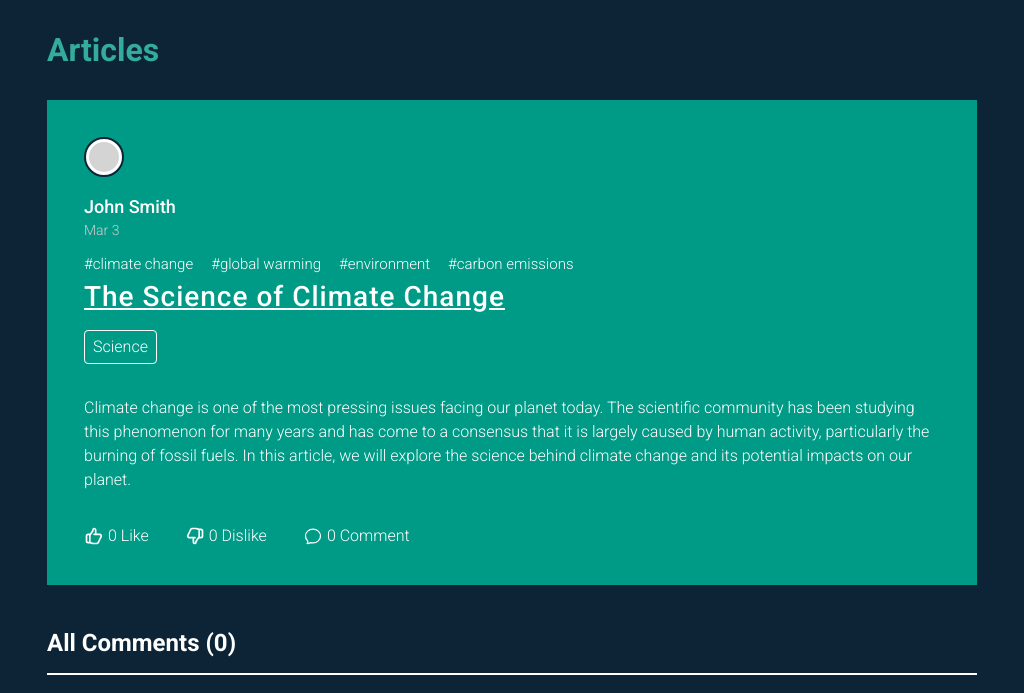
article › should toggle like and dislike count
Click the button "0 Like" at [116, 536], box [84,524,149,548]
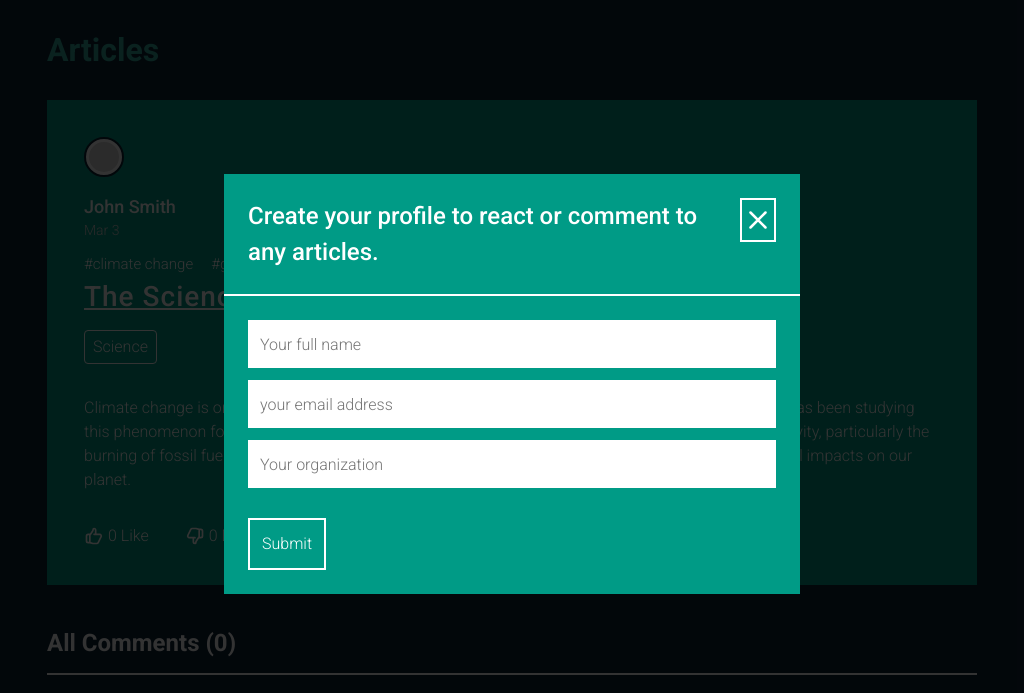
Type "John Doe" into the field with placeholder "Your full name" at [512, 344], box [248,320,776,368]
Type "johndoe@gmail.com" into the field with placeholder "your email address" at [512, 404], box [248,380,776,428]
Type "ICS" into the field with placeholder "Your organization" at [512, 464], box [248,440,776,488]
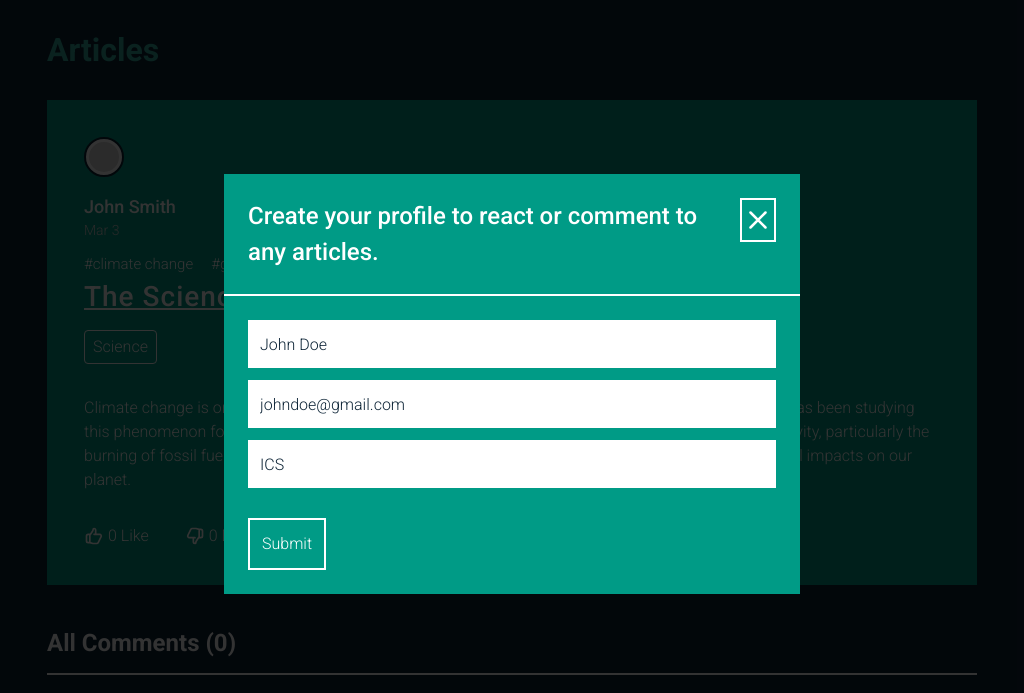
Submit the form with test id "user-form", box [248,320,776,570]
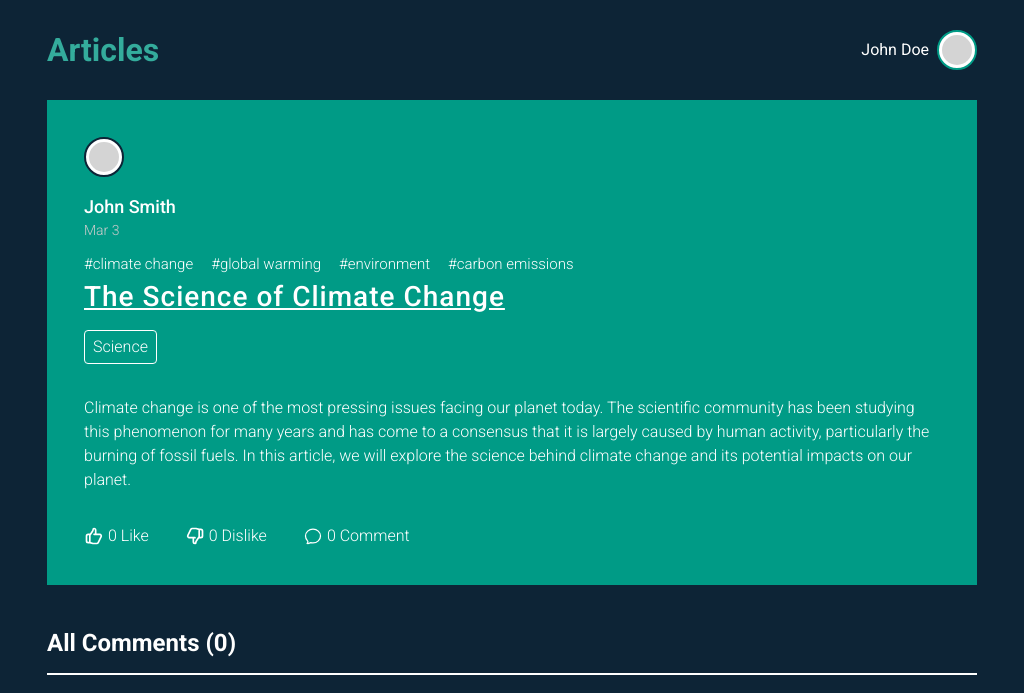
Expected: the form with test id "user-form" is gone
Click the button "0 Dislike" at [226, 536], box [185,524,267,548]
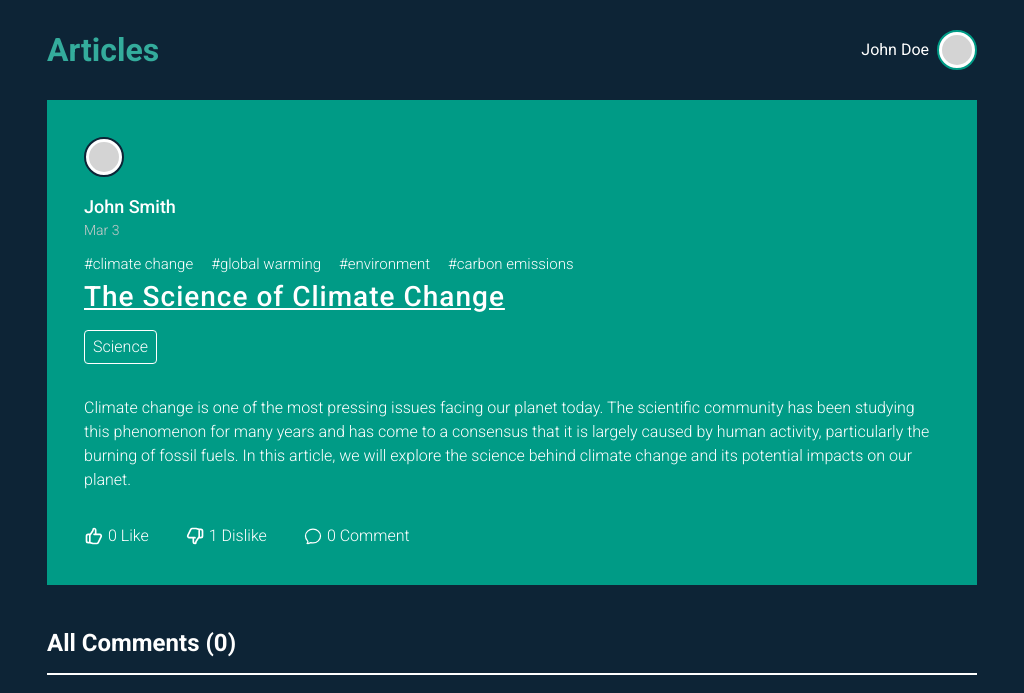
Expected: the text "0 Dislike" reads "1 Dislike", [209,524,267,548]
Click the button "0 Like" at [116, 536], box [84,524,149,548]
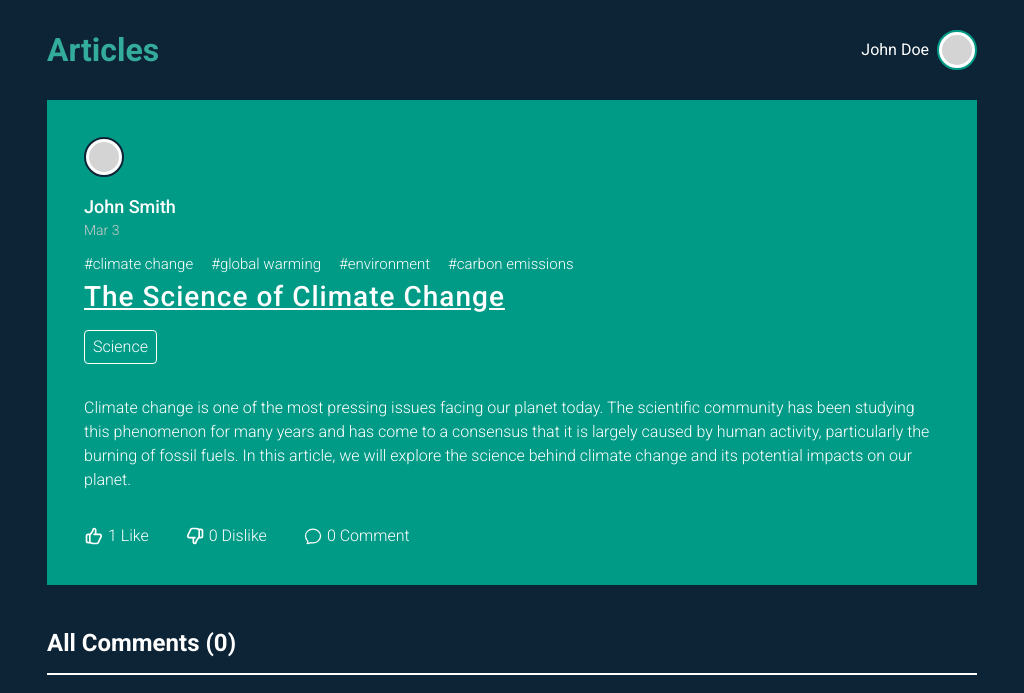
Expected: the text "0 Dislike" is shown, [209,524,267,548]
Click the button "0 Dislike" at [226, 536], box [185,524,267,548]
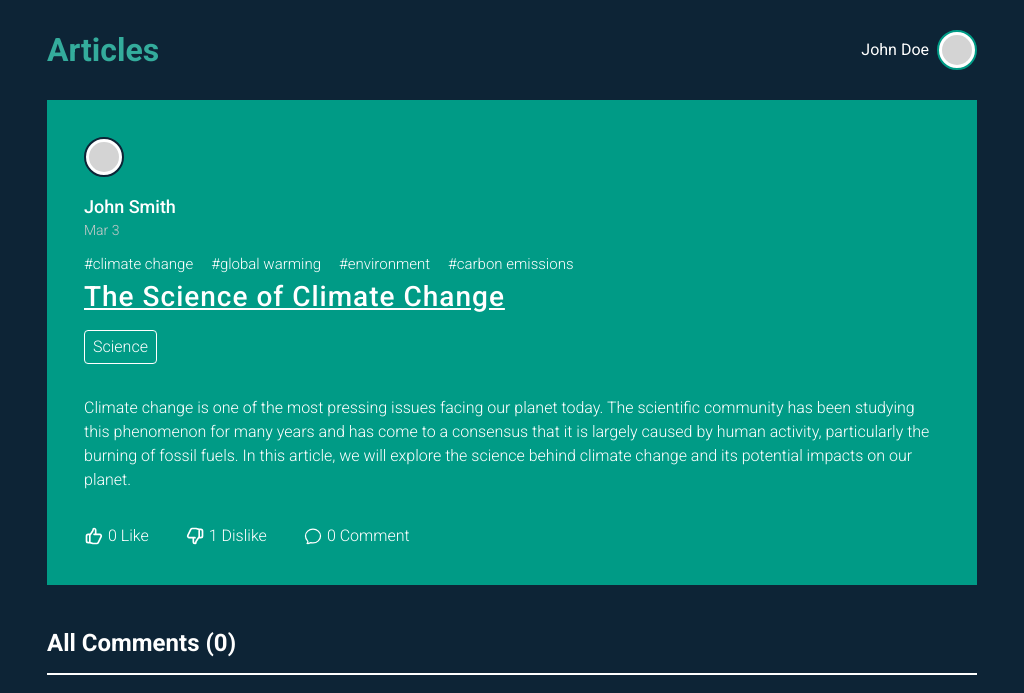
Expected: the text "0 Like" is shown, [108,524,149,548]
Expected: the text "0 Dislike" reads "1 Dislike", [209,524,267,548]
